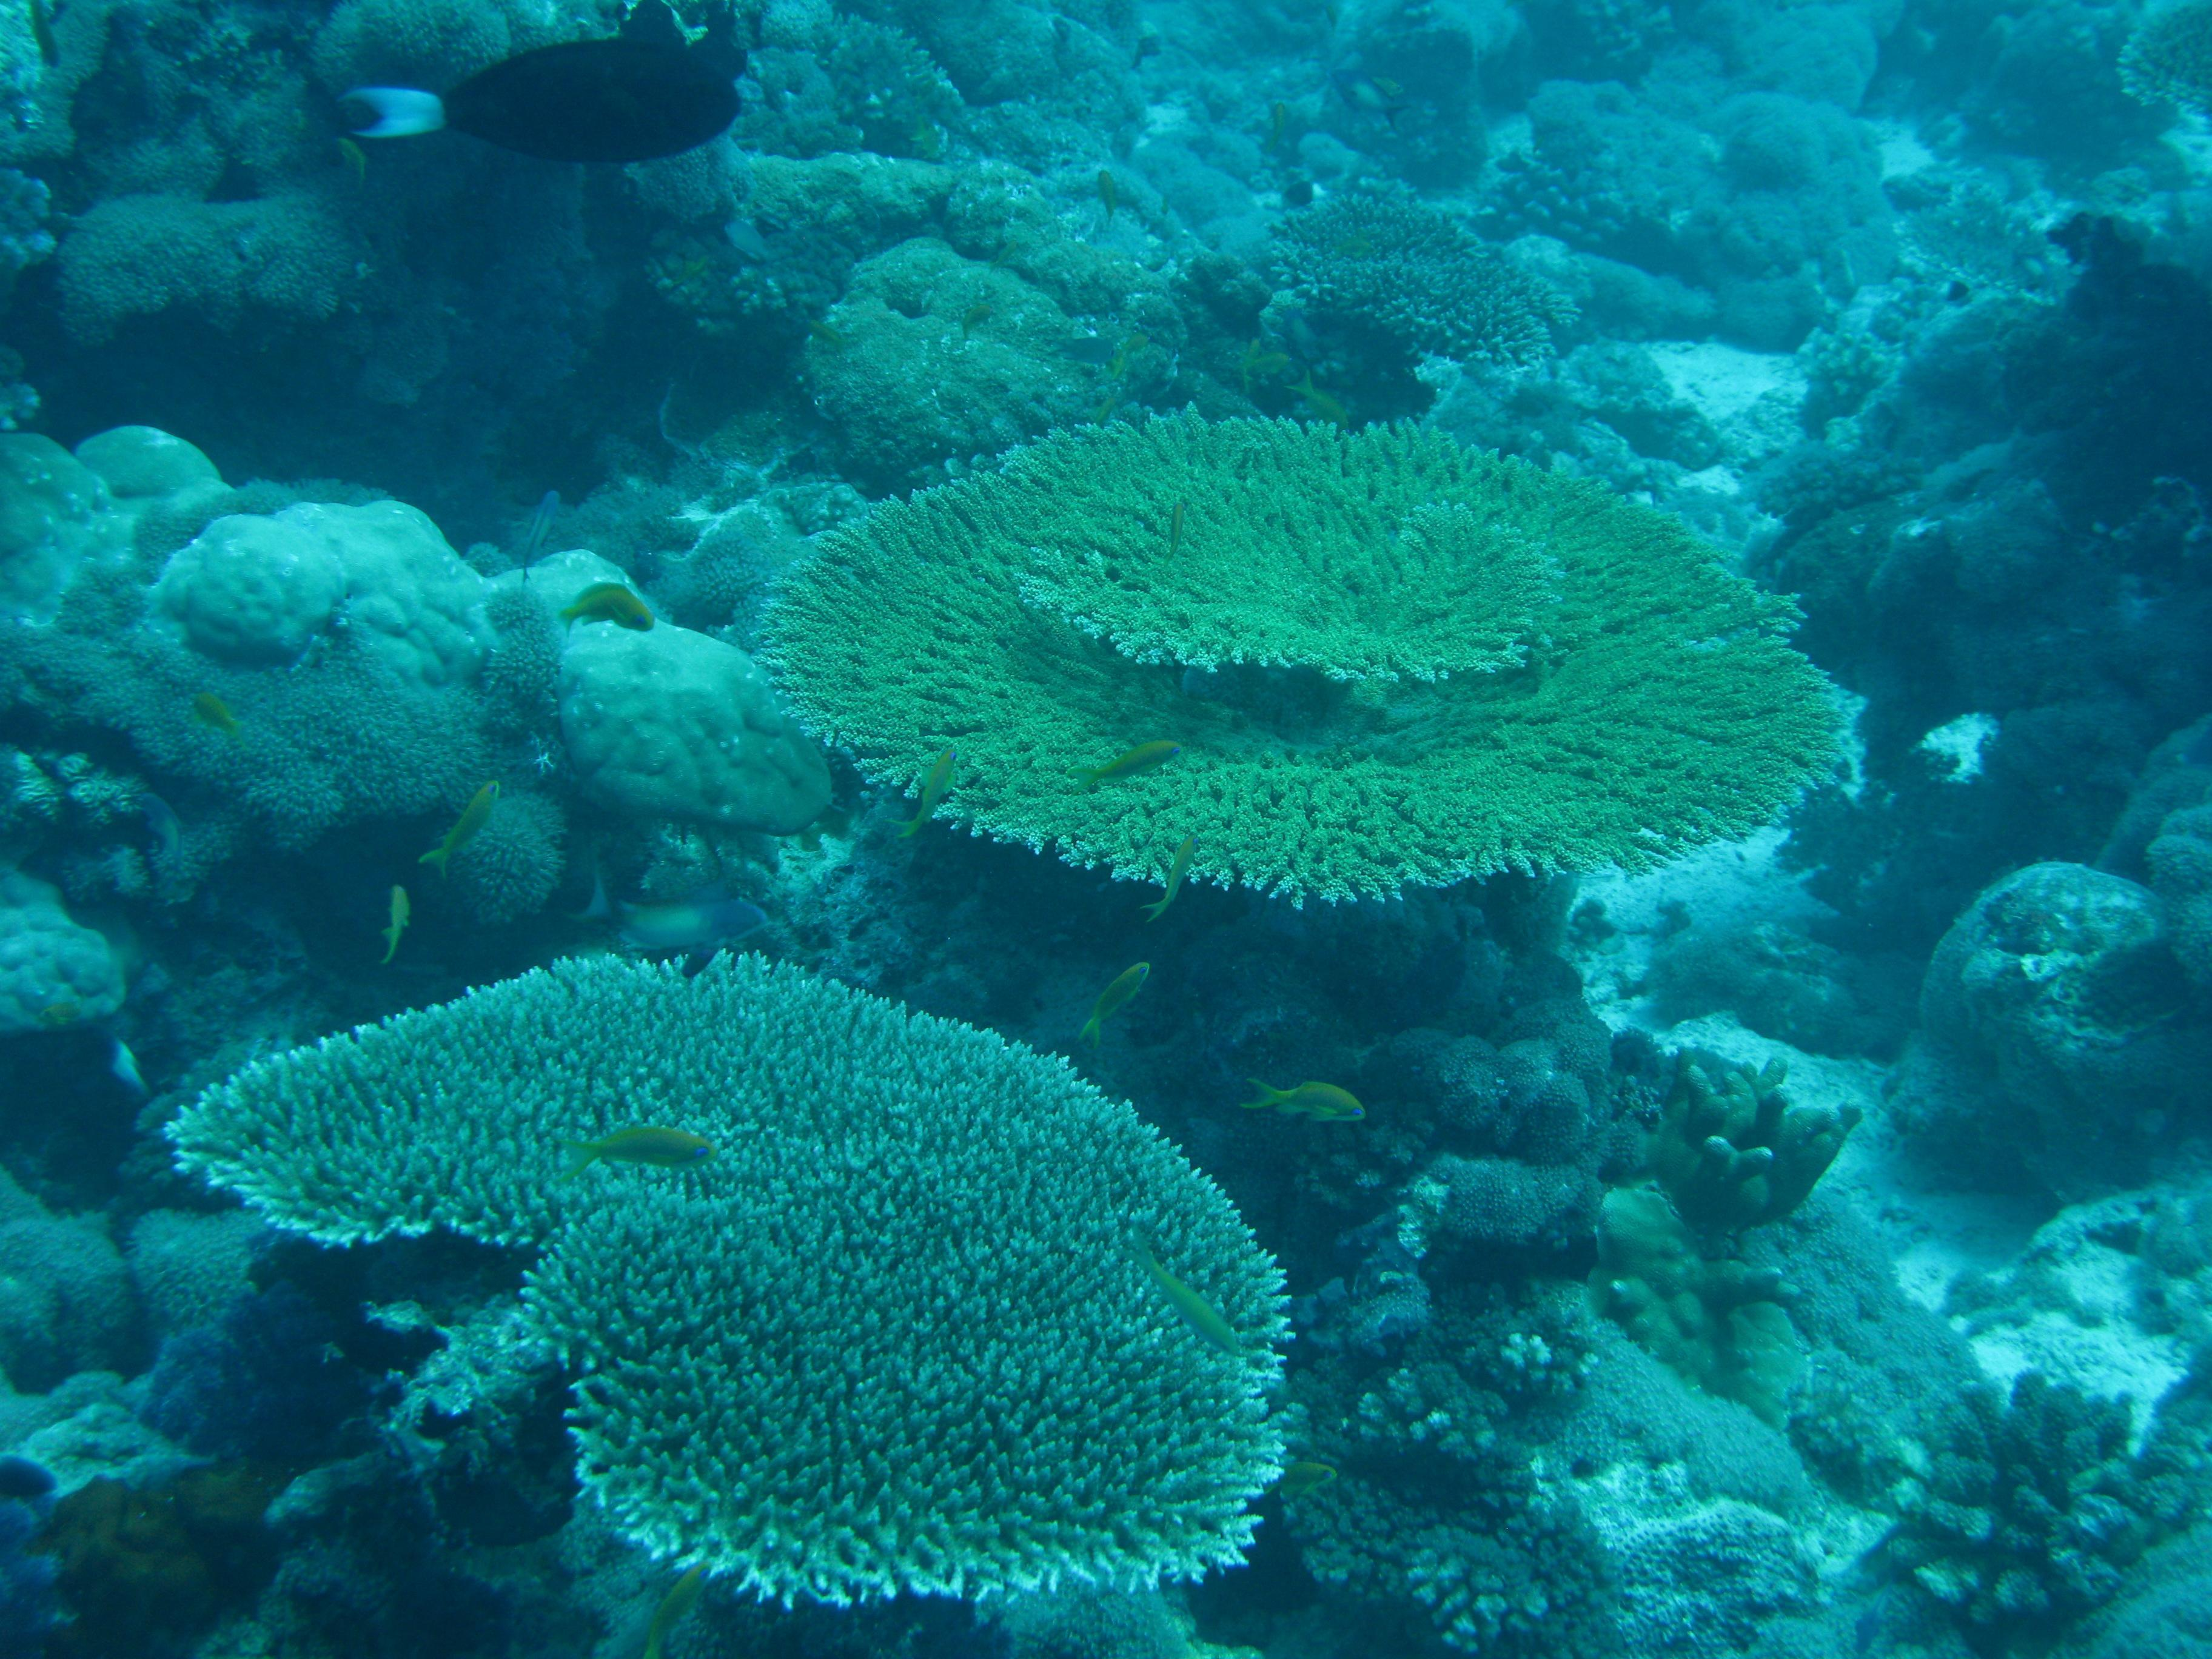Pseadanthias squamipinnis: (1075, 1208, 1284, 1401), (510, 1098, 737, 1194), (1224, 1044, 1409, 1154), (1040, 714, 1247, 798), (547, 568, 691, 664), (415, 746, 503, 890), (1057, 951, 1162, 1058), (890, 723, 972, 856), (1123, 828, 1219, 938), (362, 859, 437, 988)
